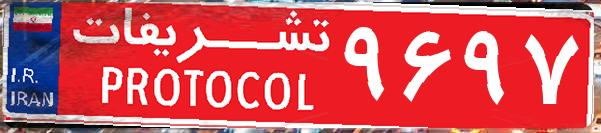6: (400, 20, 460, 115)
7: (520, 20, 580, 115)
9: (340, 20, 400, 115), (460, 20, 520, 115)
تشریفات: (60, 8, 340, 125)
